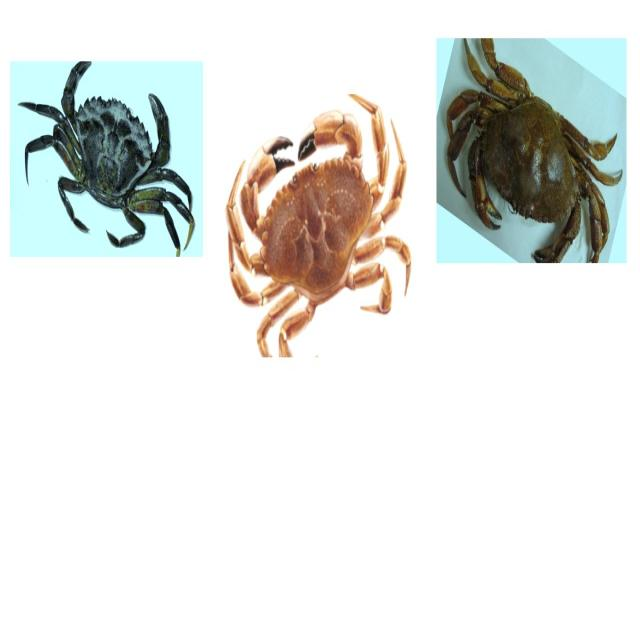egc: (11, 63, 201, 260)
jonah_crab: (223, 90, 410, 351)
rock_crab: (441, 40, 624, 265)
